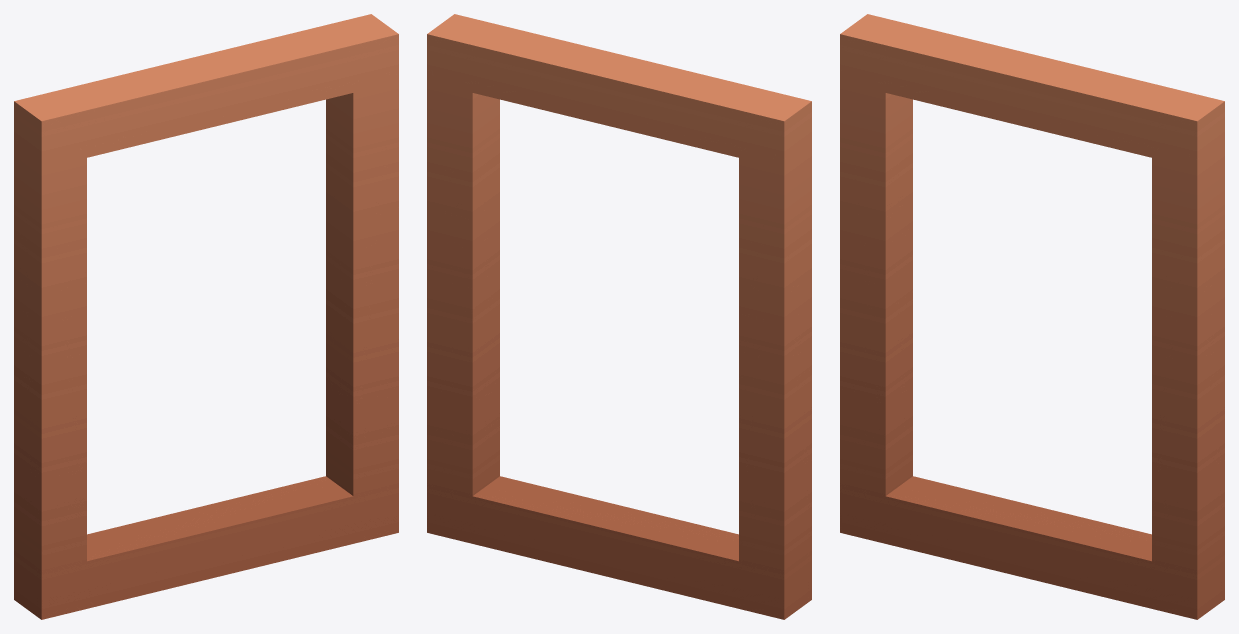
3 renders of one model, left to right at view 1: azimuth 30°, elevation 25°; view 2: azimuth 150°, elevation 25°; view 3: azimuth 330°, elevation 25°, orthographic.
Parts seen in each view (by area): view 1: window-brown-large; view 2: window-brown-large; view 3: window-brown-large.
Boxes of the visible parts, box(x1,y1,x2,y2) form: window-brown-large: box(14, 14, 398, 619); window-brown-large: box(427, 14, 811, 619); window-brown-large: box(840, 14, 1224, 619).
Bounding box in the file's own units: 0.375 × 0.5 × 0.05.
1 material, 1 textured.
